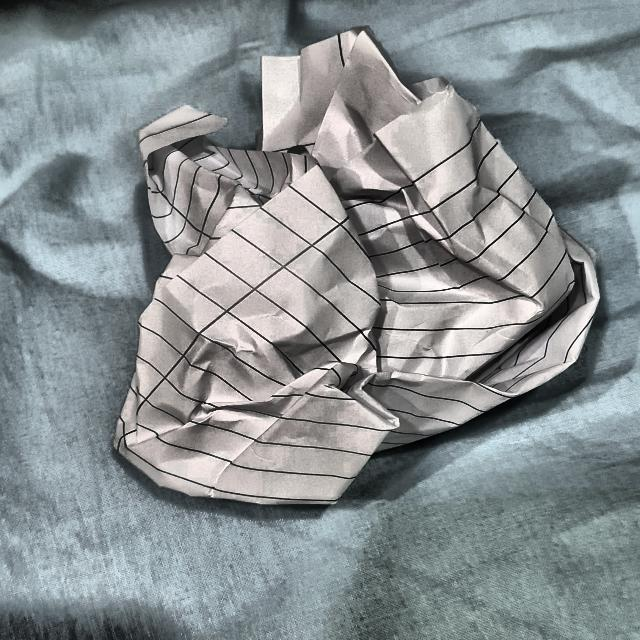paper: (130, 23, 600, 510)
